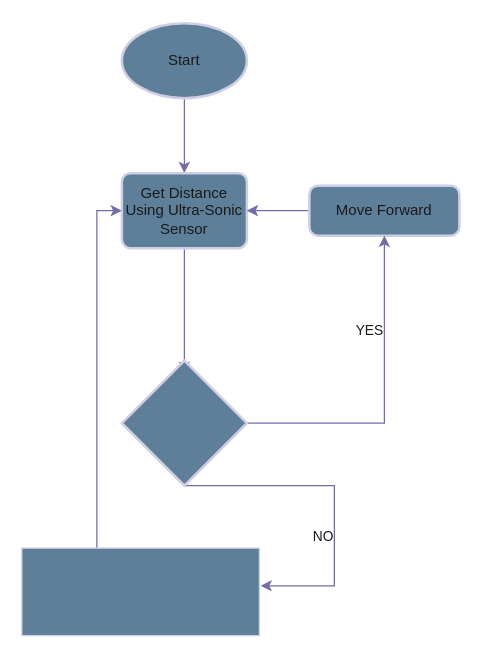
Image size: 483x658. Some labels were removed from this diagram. Here are the shapes that lost their labels. From the top down, the centre of each, then its label:
the point at 184,422: Is Distance > 10cm
the point at 140,591: Apply PID braking/ Generate Random Angle/ Turn Robot Angle
